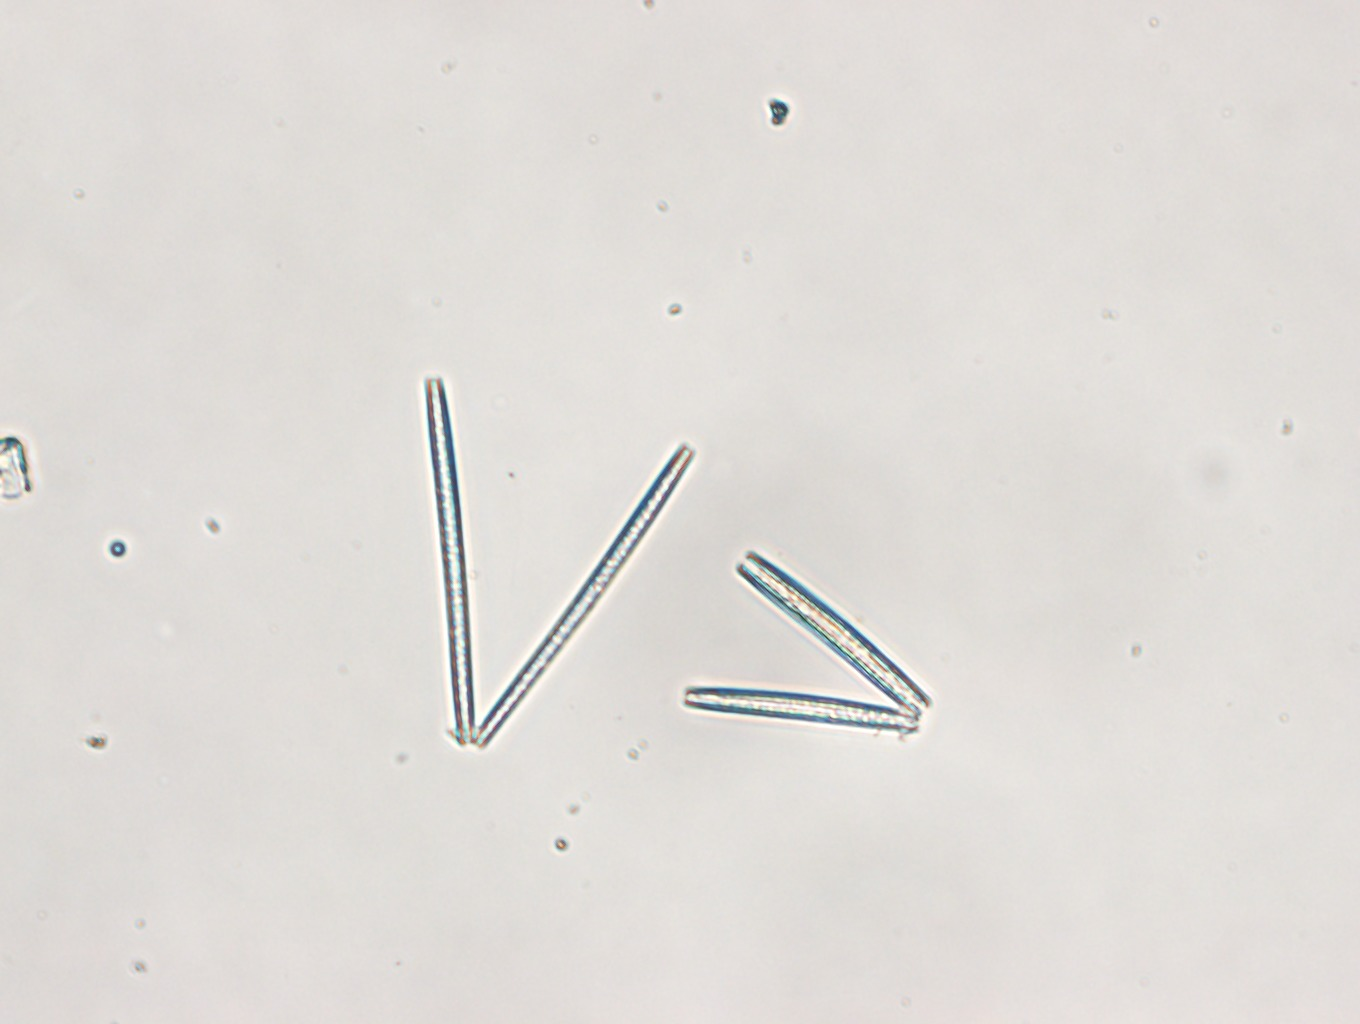thalassionema frauenfeldii: (421, 375, 693, 746)
thalassionema nitzschioides: (683, 551, 929, 733)
